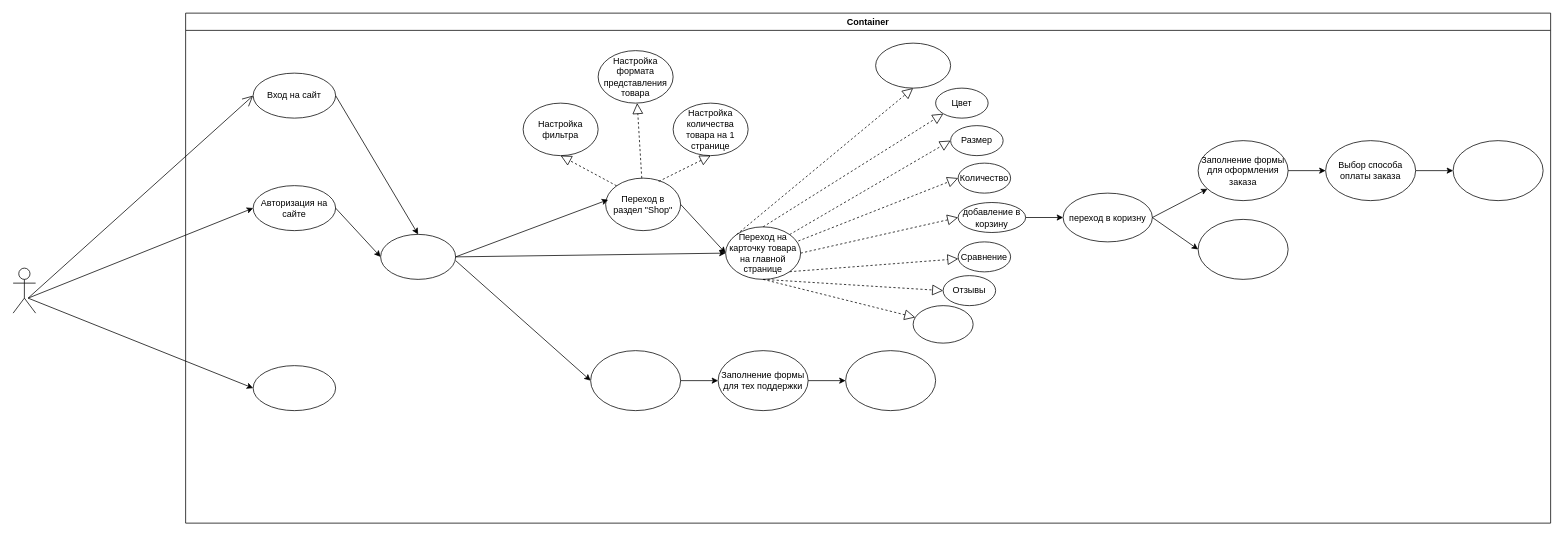
Image size: 1564x536. Some labels were removed from this diagram. Here are the shapes that lost their labels. From the top down, the centre of each, then its label:
(913,65): добавление в избранное
(1497,170): Оформление заказа
(418,256): Главная страница магазина
(1242,249): Удаление товара из корзины
(24,290): Actor
(942,324): Ссылка на товар
(294,388): Регистрация на сайте
(635,380): Переход в раздел "Сontact"
(890,380): Отправка обращения в тех поддержку
